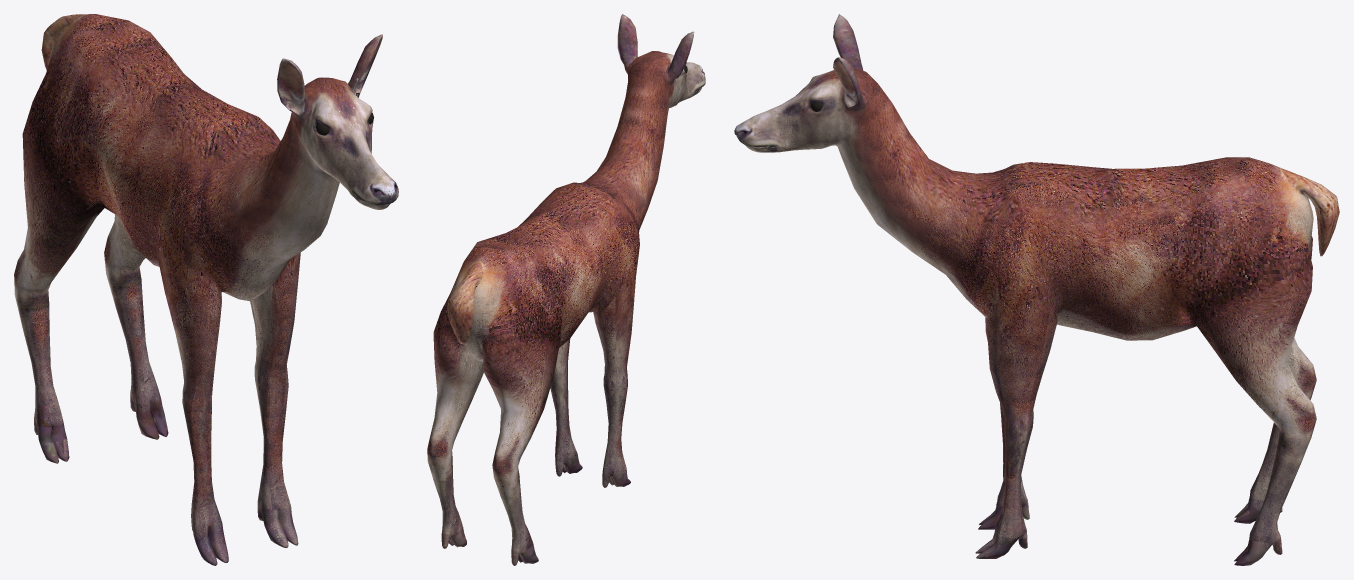
Rendered from natural-deer-source.glb.
The picture shows the model from 3 angles, left to right: view 1: azimuth 30°, elevation 25°; view 2: azimuth 150°, elevation 25°; view 3: azimuth 270°, elevation 25°; orthographic projection. The views are drawn at different scales.
Visible parts, largest first — view 1: natural-deer-source runtime mesh; view 2: natural-deer-source runtime mesh; view 3: natural-deer-source runtime mesh.
Boxes of the visible parts, x1,y1,x2,y2 form: natural-deer-source runtime mesh: (14,14,398,565); natural-deer-source runtime mesh: (427,14,705,565); natural-deer-source runtime mesh: (734,14,1339,565).
Bounding box in the file's own units: 0.383 × 1.45 × 1.57.
Materials: 3 (2 with a texture image).
